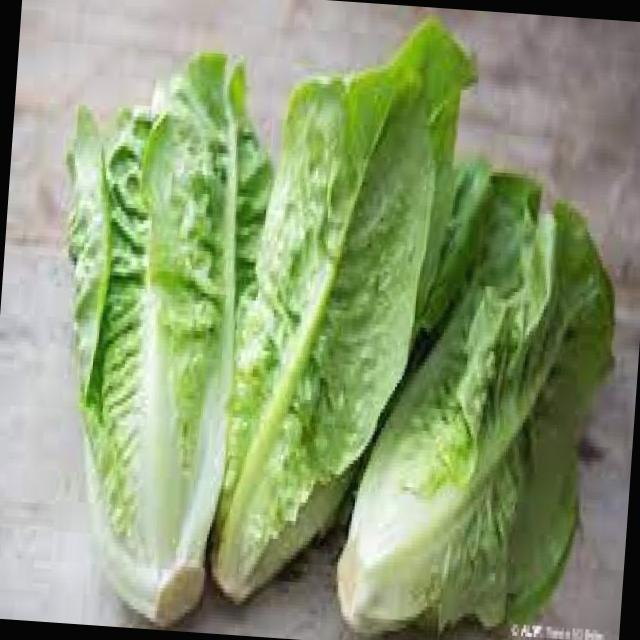Lettuce-Ready-to-Harvest: (212, 23, 474, 600), (337, 174, 614, 630), (68, 53, 268, 623)
